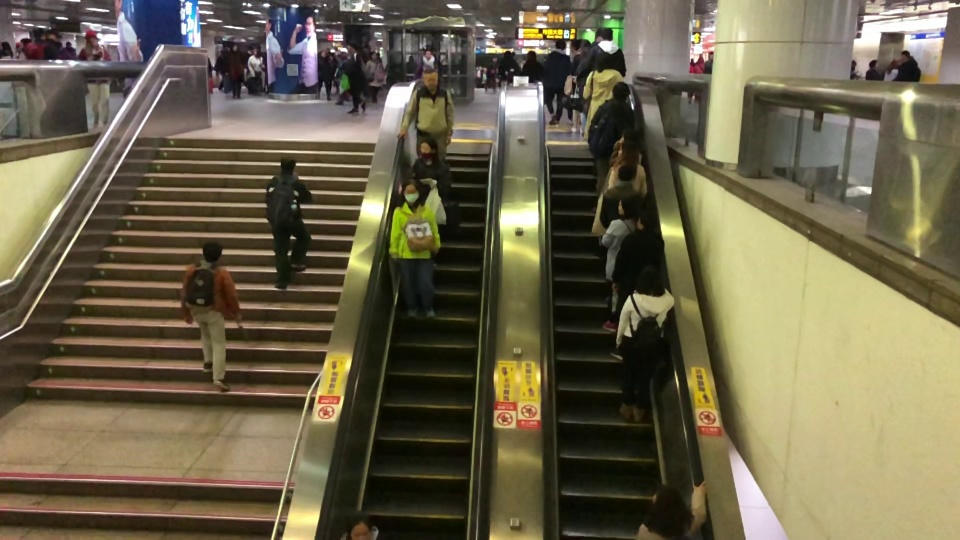person_head: (644, 480, 688, 525), (635, 264, 665, 296), (345, 508, 372, 540), (400, 177, 424, 206), (617, 195, 641, 220), (617, 141, 638, 164), (635, 211, 657, 231), (419, 137, 438, 160), (202, 242, 222, 263), (618, 127, 639, 147), (421, 67, 439, 90), (611, 81, 630, 101), (616, 165, 636, 183), (594, 52, 613, 70), (279, 157, 296, 176), (84, 29, 99, 47), (598, 27, 614, 42), (568, 38, 580, 56), (33, 27, 46, 42), (346, 40, 358, 54), (47, 31, 60, 43), (579, 39, 591, 52), (19, 37, 31, 49), (525, 50, 537, 62), (555, 39, 566, 52), (900, 50, 911, 62), (336, 53, 347, 64), (502, 50, 513, 61), (888, 58, 898, 70), (868, 58, 878, 69), (423, 48, 432, 60), (339, 47, 348, 58), (0, 41, 10, 50), (227, 40, 236, 49), (246, 44, 254, 54), (369, 51, 377, 61), (221, 40, 228, 50), (697, 54, 704, 64), (319, 50, 327, 58), (253, 46, 260, 55), (707, 51, 713, 61), (490, 56, 497, 63), (851, 60, 856, 69), (689, 58, 695, 64), (408, 55, 413, 62), (66, 41, 71, 47)
person_vbox: (614, 264, 675, 422), (179, 242, 243, 392), (608, 211, 664, 362), (387, 177, 442, 321), (264, 157, 313, 291), (588, 81, 635, 215), (599, 195, 641, 332), (396, 67, 454, 160), (633, 480, 709, 540), (581, 52, 624, 142), (572, 27, 627, 95), (78, 29, 112, 128), (599, 165, 647, 230), (408, 137, 452, 206), (543, 39, 571, 127), (603, 142, 647, 197), (334, 53, 369, 115), (570, 39, 592, 132), (338, 508, 388, 540), (221, 39, 243, 99), (608, 127, 642, 165), (25, 27, 58, 60), (365, 51, 384, 104), (334, 47, 350, 106), (247, 46, 265, 96), (214, 40, 230, 94), (346, 40, 368, 79), (521, 49, 546, 83), (893, 50, 920, 81), (317, 50, 333, 101), (498, 50, 521, 84), (415, 48, 438, 80), (47, 31, 72, 60), (484, 56, 499, 94), (693, 54, 704, 102), (243, 44, 254, 89), (864, 58, 884, 81), (687, 58, 695, 104), (884, 58, 898, 82), (405, 55, 417, 81), (19, 38, 31, 59), (850, 59, 861, 80), (704, 51, 714, 74), (0, 41, 12, 58), (65, 41, 76, 56)
